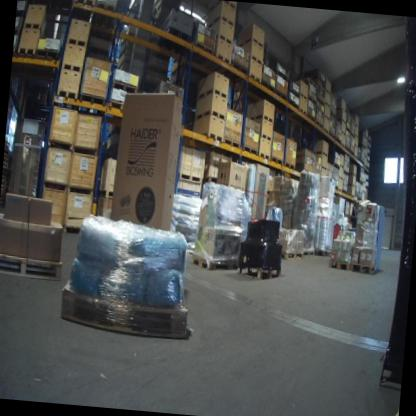pallet: (57, 278, 196, 344), (0, 252, 65, 281), (188, 250, 241, 275), (156, 28, 192, 57), (235, 261, 281, 283), (195, 86, 231, 104), (108, 77, 139, 96), (204, 53, 231, 73), (205, 13, 235, 31), (194, 109, 227, 125), (34, 45, 63, 63), (235, 35, 265, 52), (350, 259, 380, 275), (206, 0, 237, 15), (247, 111, 274, 128), (76, 94, 107, 107), (178, 171, 205, 185), (22, 21, 43, 38), (327, 259, 354, 272), (199, 130, 224, 144), (94, 0, 117, 15), (54, 89, 80, 101), (61, 61, 83, 75), (65, 36, 89, 48), (71, 0, 97, 11), (281, 250, 304, 262), (106, 101, 127, 113), (216, 34, 234, 48), (241, 144, 261, 156), (223, 138, 242, 150), (248, 53, 263, 67), (17, 46, 35, 57), (247, 71, 261, 85), (299, 249, 315, 260), (258, 132, 274, 143), (270, 155, 285, 166), (202, 173, 218, 183), (258, 151, 272, 162), (312, 149, 328, 158), (298, 106, 308, 116), (323, 100, 333, 110), (284, 162, 295, 171), (297, 93, 309, 101), (306, 114, 316, 123), (314, 121, 325, 129), (319, 164, 327, 174), (322, 113, 331, 121), (323, 88, 332, 96), (328, 131, 336, 140), (323, 127, 330, 135), (335, 137, 342, 145), (347, 182, 356, 188), (338, 118, 347, 124), (347, 193, 356, 198), (348, 173, 357, 178), (338, 173, 344, 180), (336, 187, 342, 193), (344, 170, 349, 177), (342, 190, 349, 195), (344, 147, 351, 152), (350, 150, 355, 156), (341, 131, 347, 136), (354, 134, 359, 139), (354, 123, 359, 128), (340, 163, 344, 169), (354, 153, 358, 159), (341, 143, 345, 148), (354, 144, 358, 149)
